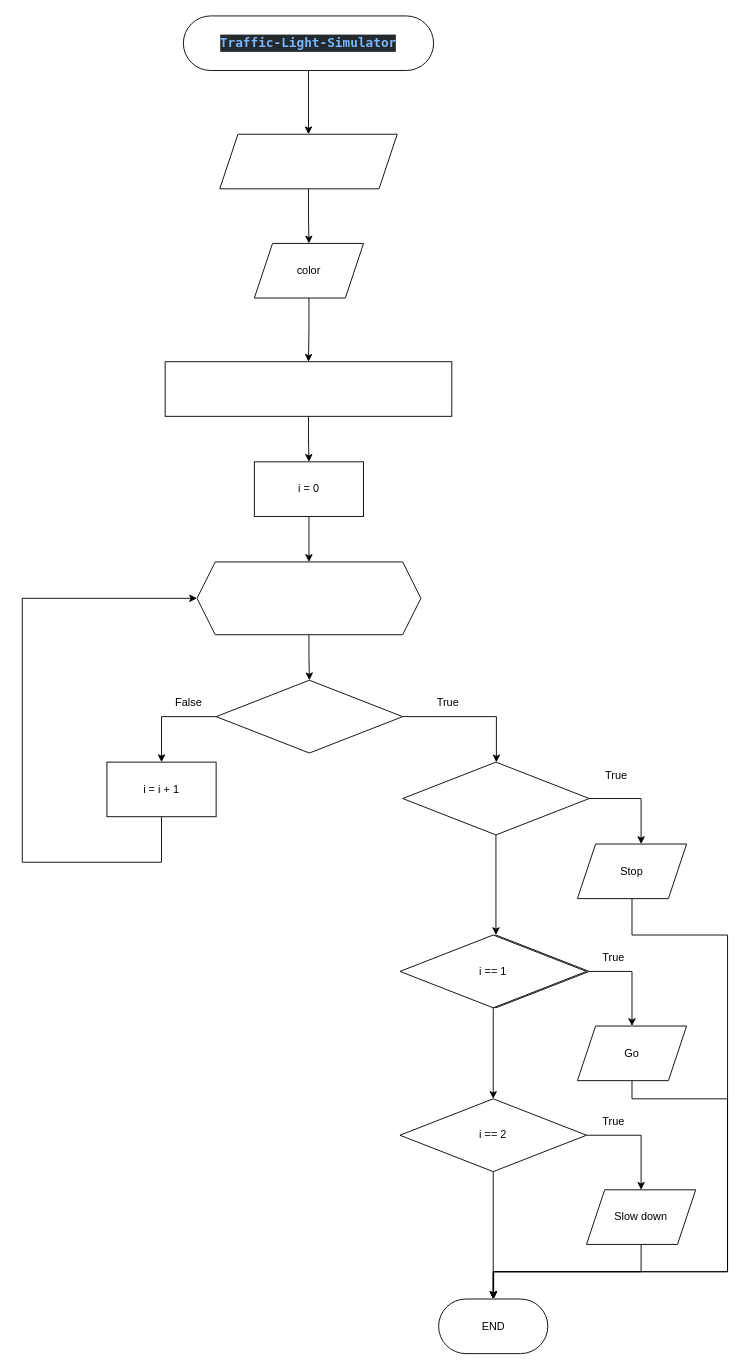
Some shapes in this 751 by 1370 pixel diagram are drawn without their labels. The centre of each missing label's shape, as x and y in pixels:
colors = ["red", "green", "yellow"]: the point at 308,388
colors[i] == color: the point at 309,716
Enter color >>>: the point at 308,161
i == 0: the point at 495,798
repeat 3 times: the point at 308,598
